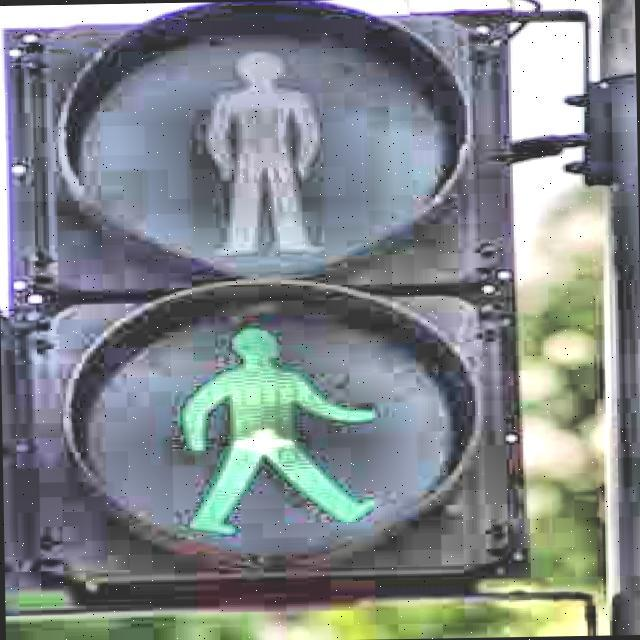green_light: (173, 320, 388, 536)
